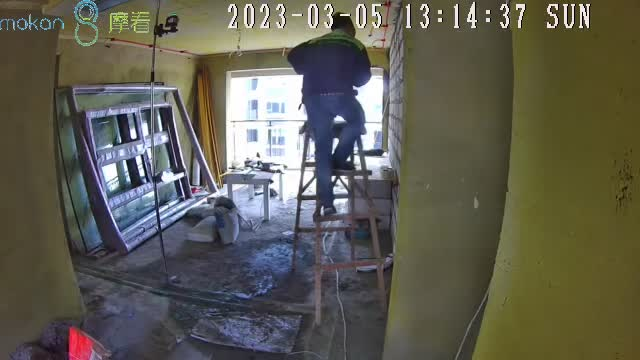people: (286, 11, 373, 214)
window: (229, 70, 386, 163)
